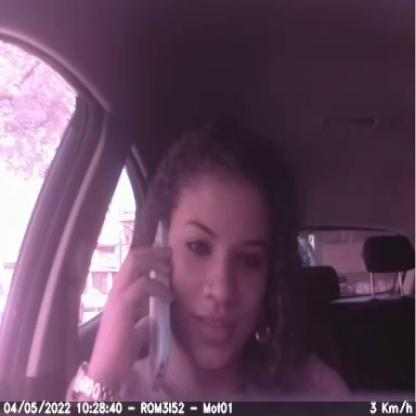phone: (133, 218, 178, 390)
